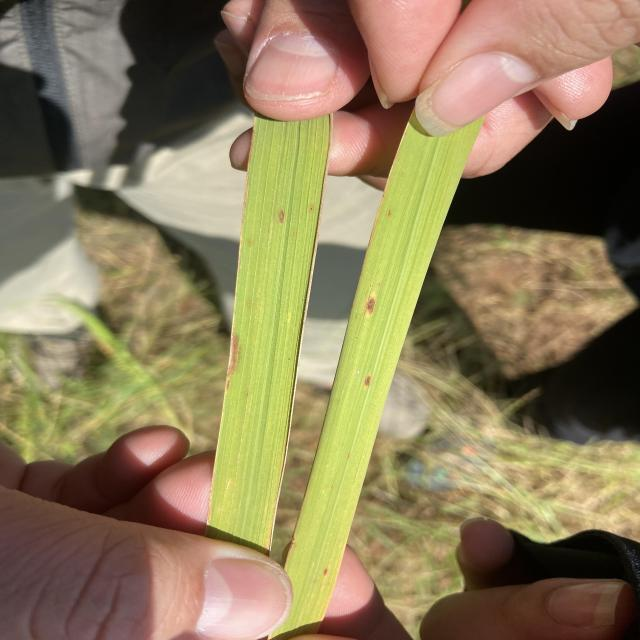Dom nau: (366, 297, 375, 315), (364, 375, 371, 386), (280, 210, 285, 224), (323, 568, 327, 575), (387, 210, 391, 216), (311, 208, 312, 209)
